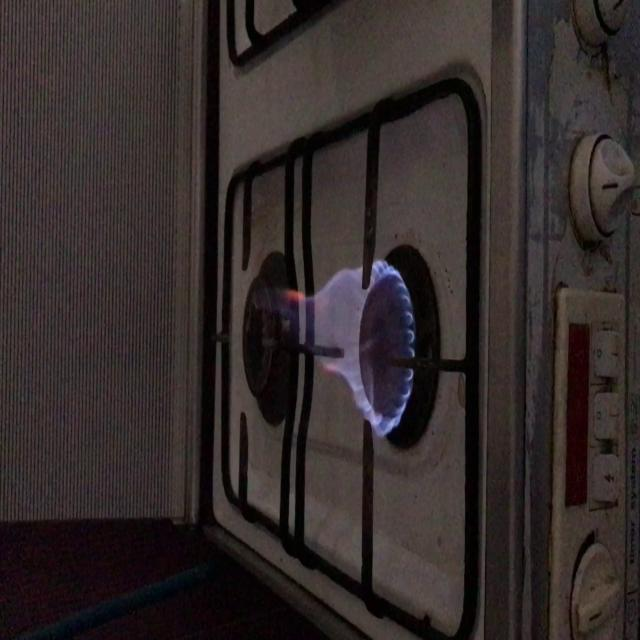Fire: (299, 281, 414, 410)
